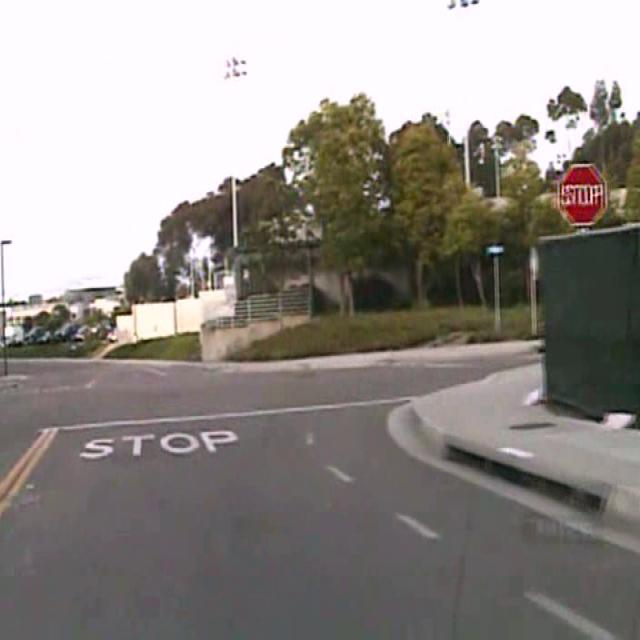stop_sign: (558, 163, 606, 225)
